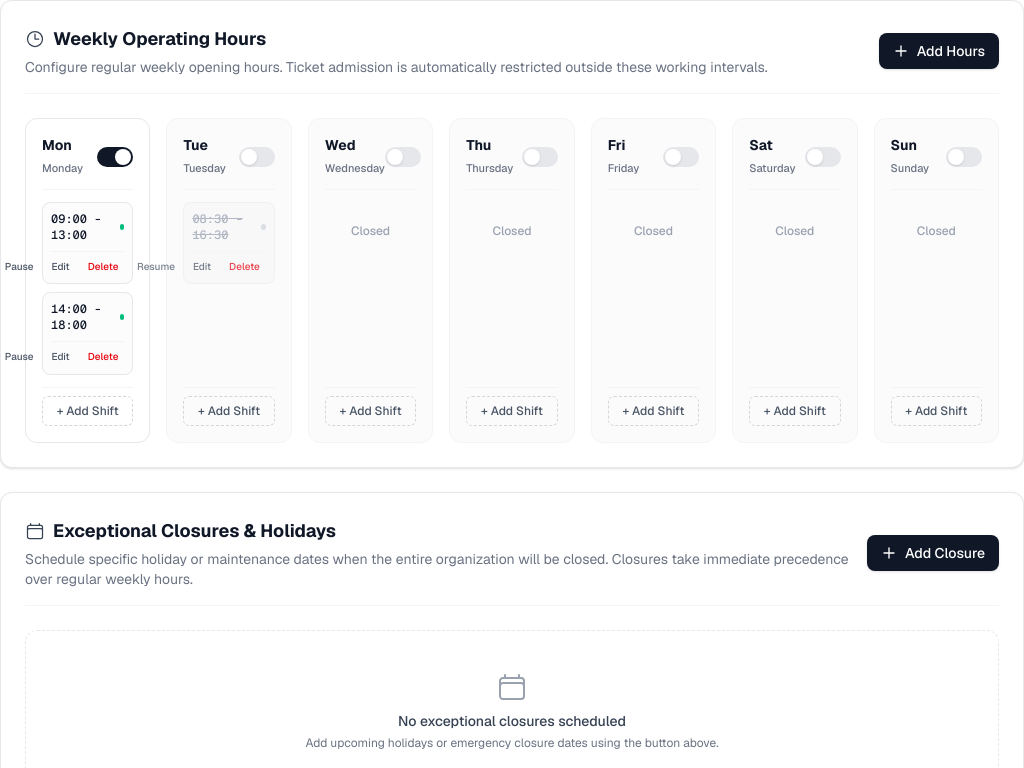
OperatingHoursManagement Component › validates overlapping intervals client-side before sending POST request
Check: the text "09:00 - 13:00" is shown, box [51,211,101,243]
Note: Click + Add Shift under Monday
Click the button "+ Add Shift" below "18:00" at (88, 411), box [42,396,133,426]
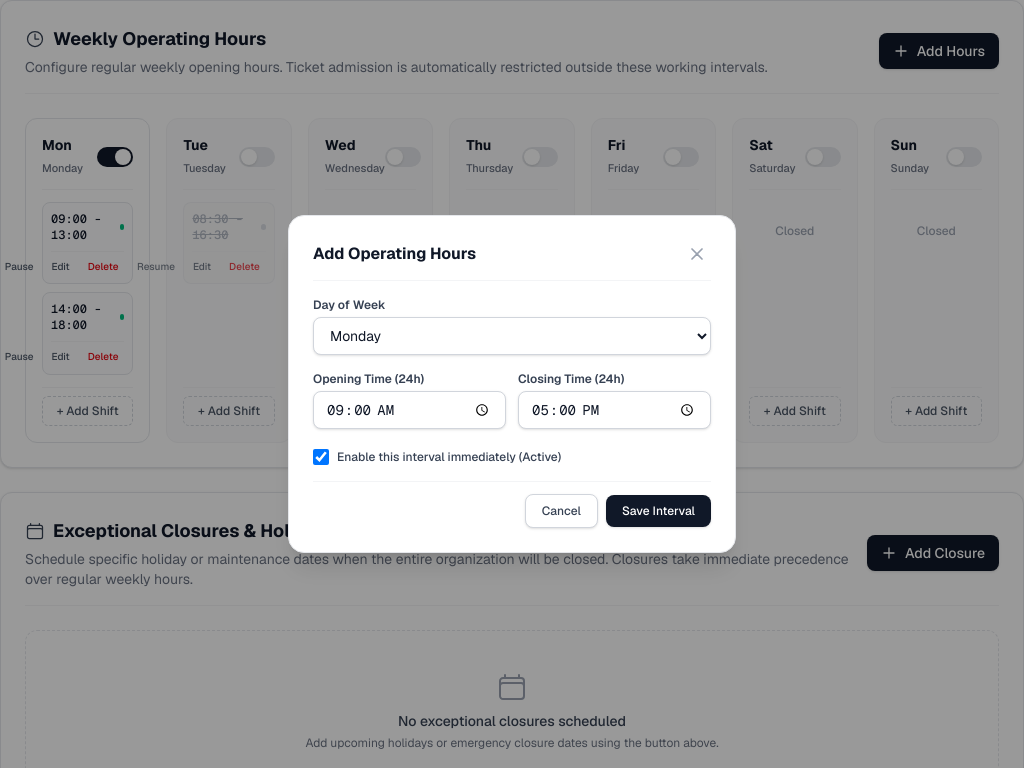
Note: Select Monday (value 1)
Select "Monday" in the dropdown labelled "Day of Week" at (512, 336), box [313,317,711,355]
Replace the text in the time field labelled "Opening Time (24h)" with "10:00" at (410, 410), box [313,391,506,429]
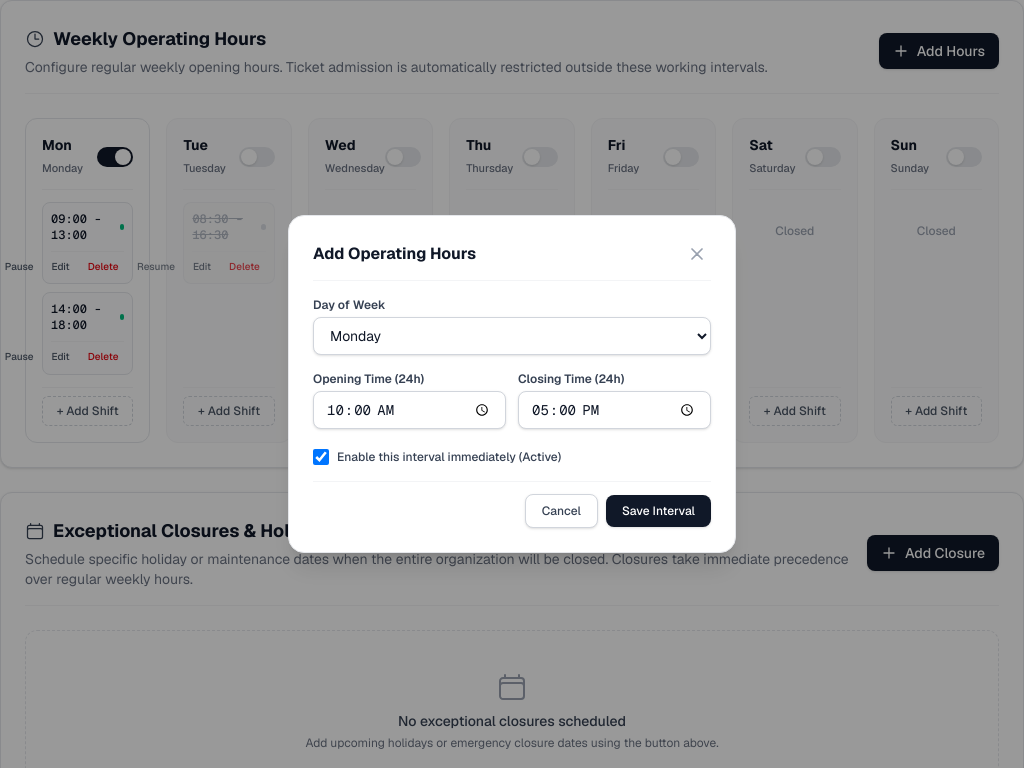
Replace the text in the time field labelled "Closing Time (24h)" with "12:00" at (614, 410), box [518,391,711,429]
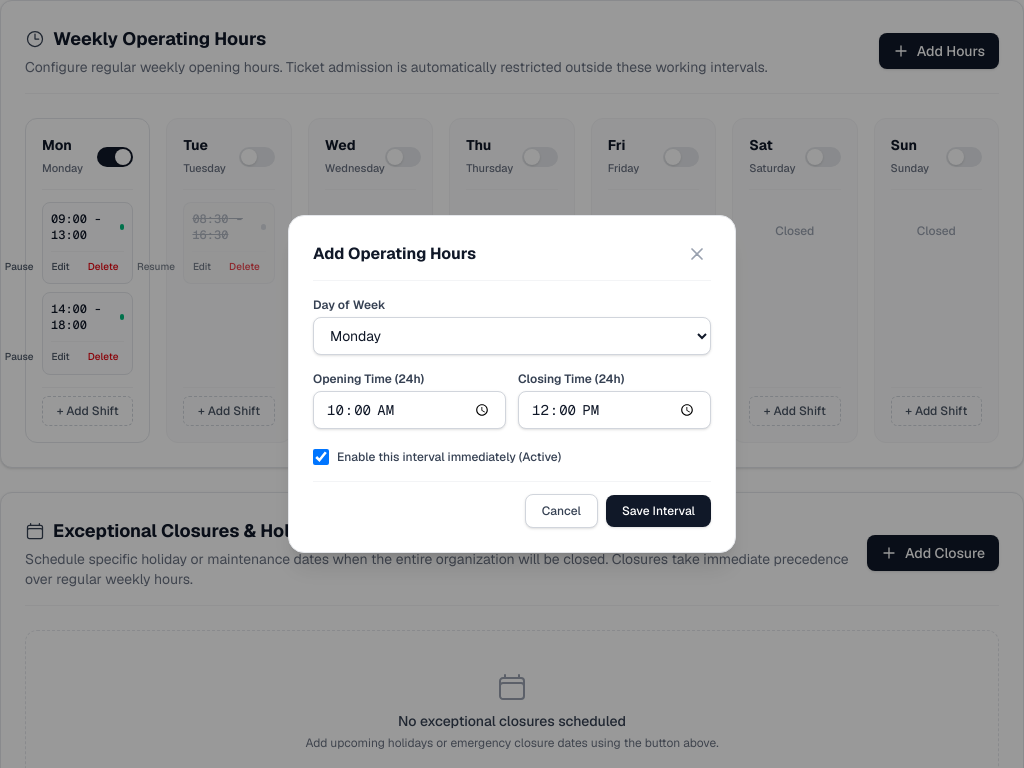
Click the button "Save Interval" at (658, 511), box [606,495,711,527]
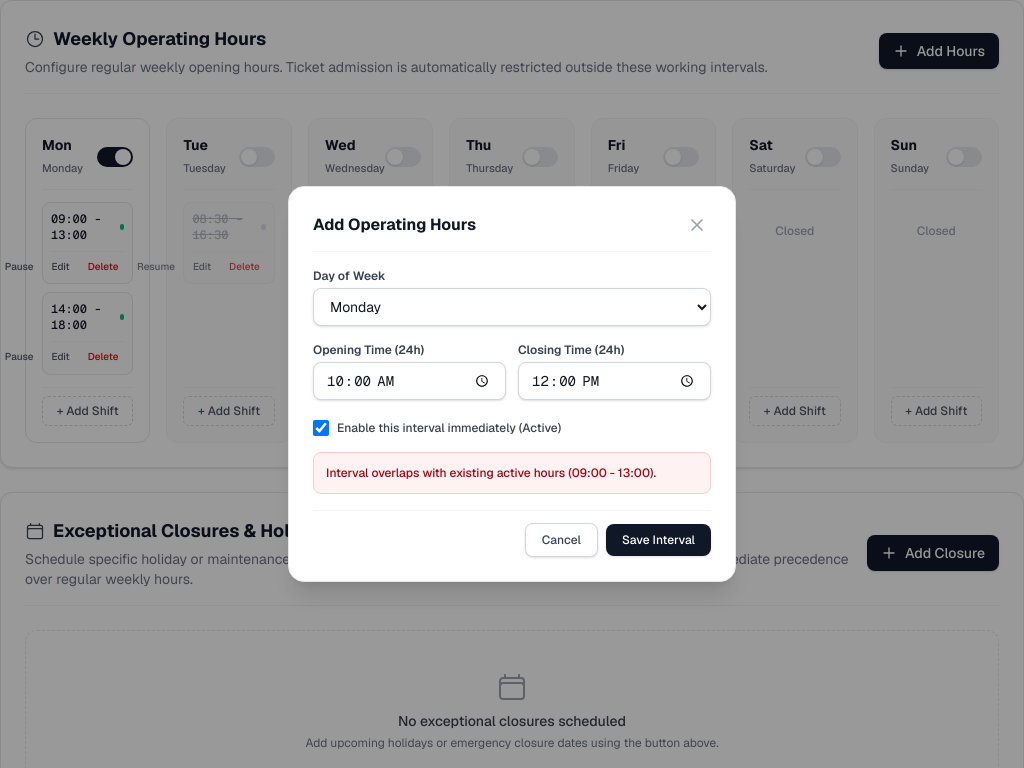
Check: the text "Interval overlaps with existing active hours (09:00 - 13:00)." is shown, box [313,452,711,494]
